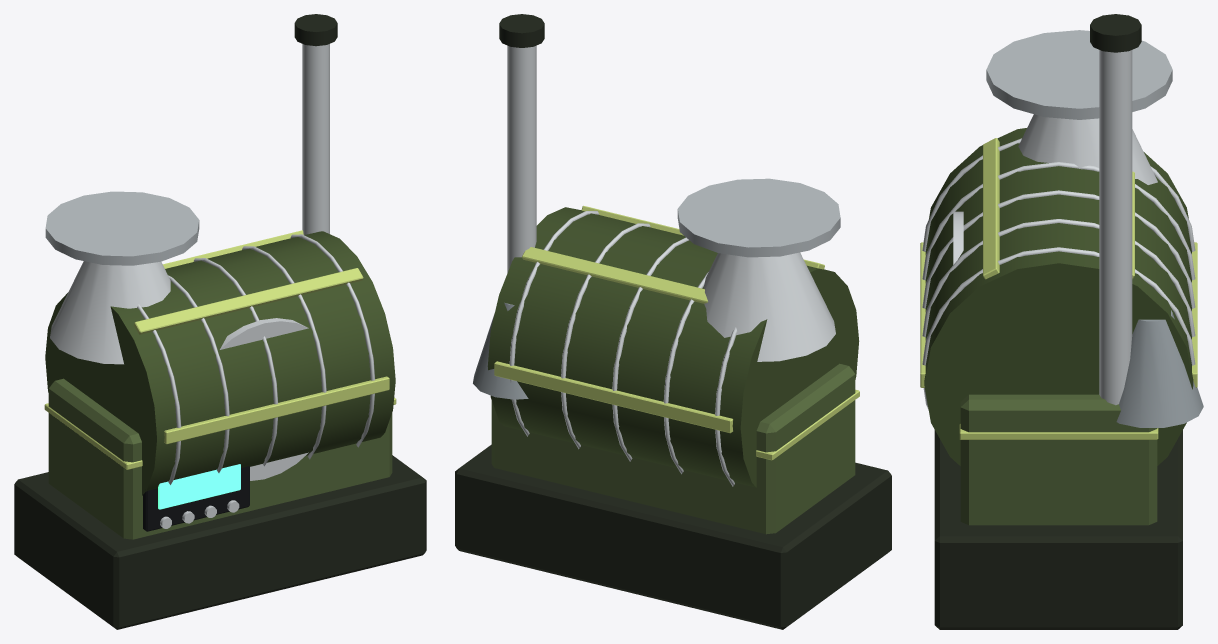
The model's file is roaster.glb.
The picture shows the model from 3 angles, left to right: view 1: azimuth 30°, elevation 25°; view 2: azimuth 150°, elevation 25°; view 3: azimuth 270°, elevation 25°; orthographic projection. The views are drawn at different scales.
Parts seen in each view (by area): view 1: RoasterBody, Drum; view 2: RoasterBody, Drum; view 3: RoasterBody, Drum.
Boxes of the visible parts, x1=… form: RoasterBody: x1=14, y1=14, x2=426, y2=629; Drum: x1=45, y1=230, x2=395, y2=495; RoasterBody: x1=455, y1=14, x2=891, y2=629; Drum: x1=487, y1=205, x2=859, y2=487; RoasterBody: x1=934, y1=14, x2=1203, y2=629; Drum: x1=920, y1=128, x2=1197, y2=465.
Bounding box in the file's own units: 4.2 × 6.24 × 2.74.
